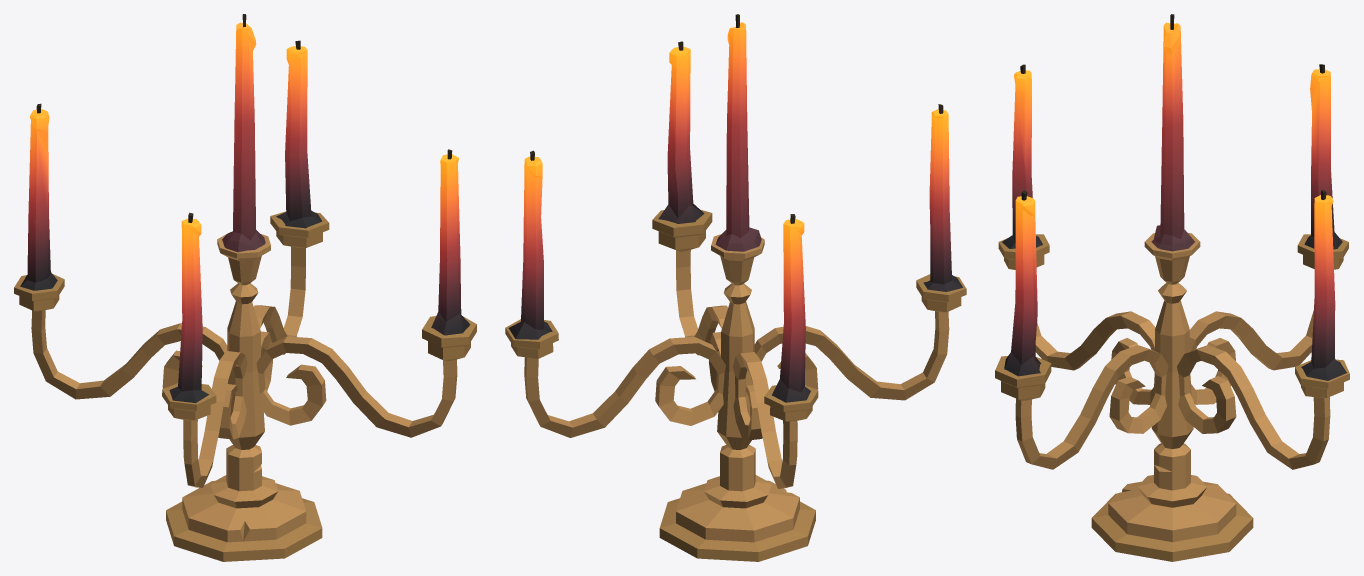
The model's file is crypt_candelabra_s.gltf.
The picture shows the model from 3 angles, left to right: view 1: azimuth 30°, elevation 25°; view 2: azimuth 150°, elevation 25°; view 3: azimuth 270°, elevation 25°; orthographic projection.
Parts seen in each view (by area): view 1: crypt_candelabra_s; view 2: crypt_candelabra_s; view 3: crypt_candelabra_s.
Boxes of the visible parts, box(x1,y1,x2,y2) form: crypt_candelabra_s: box(14, 14, 476, 561); crypt_candelabra_s: box(505, 14, 966, 561); crypt_candelabra_s: box(995, 14, 1349, 561).
Bounding box in the file's own units: 0.5223 × 0.8379 × 0.5251.
1 material, 1 textured.
